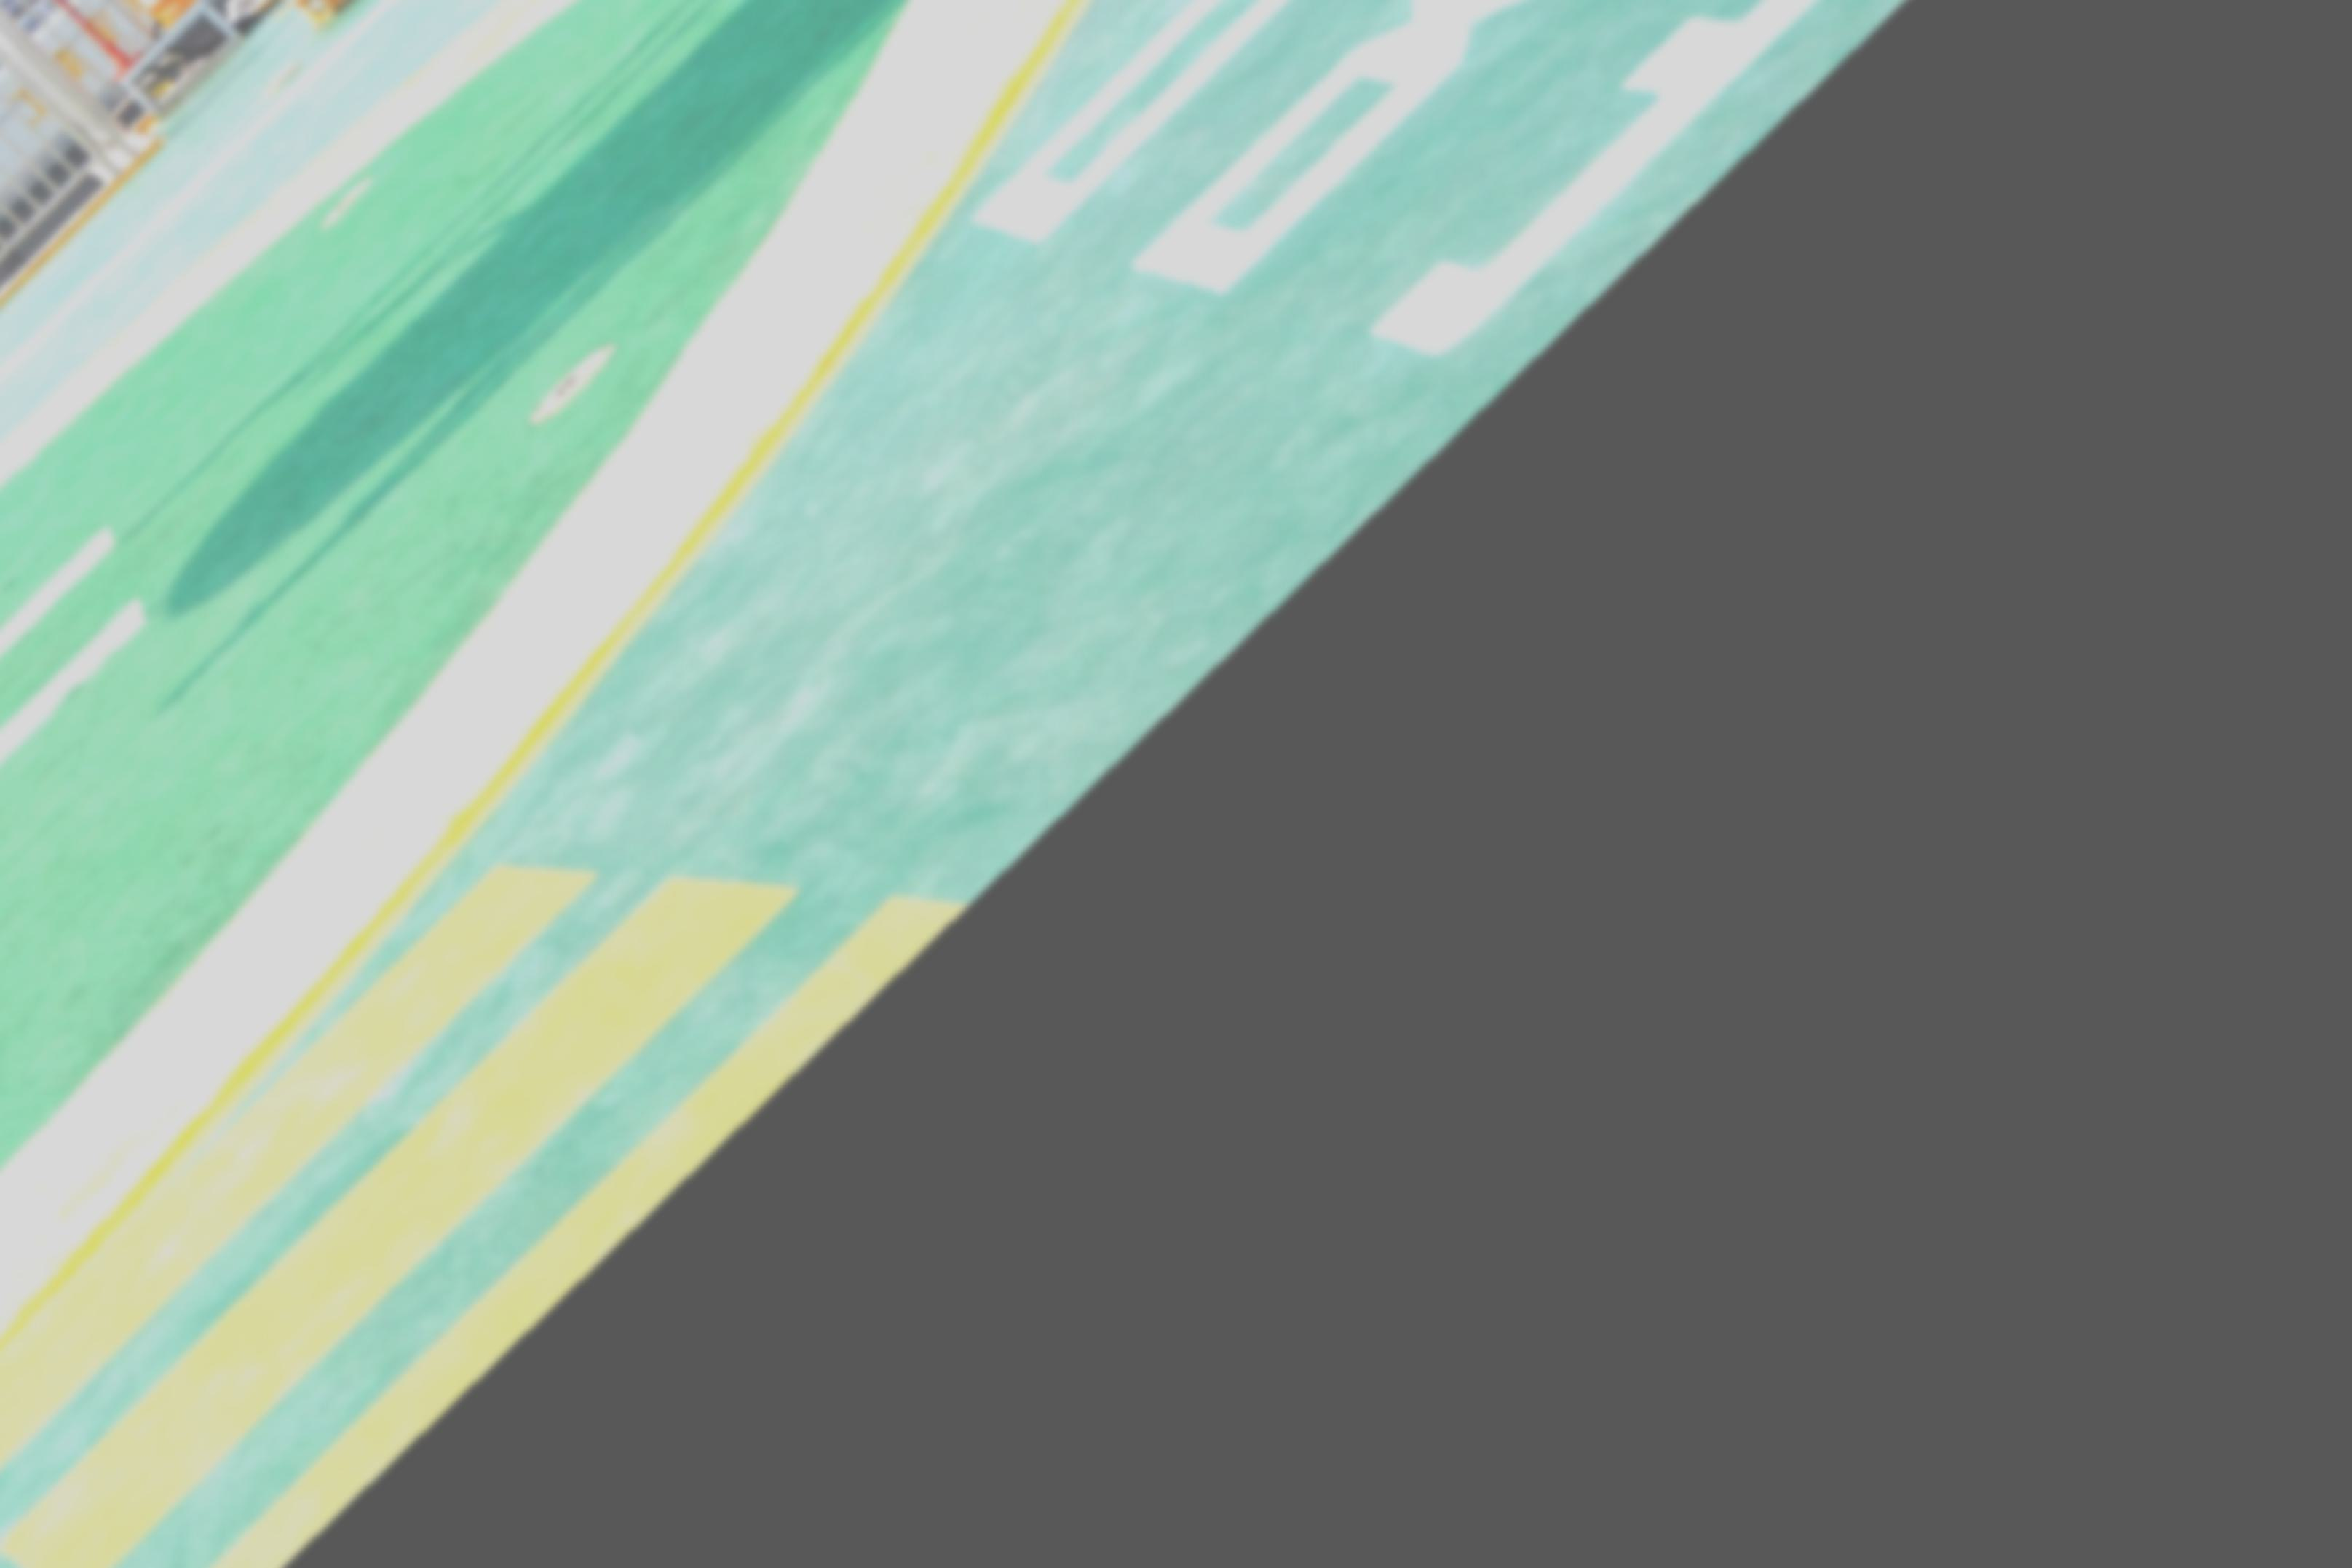Apron: (0, 0, 1118, 1298)
